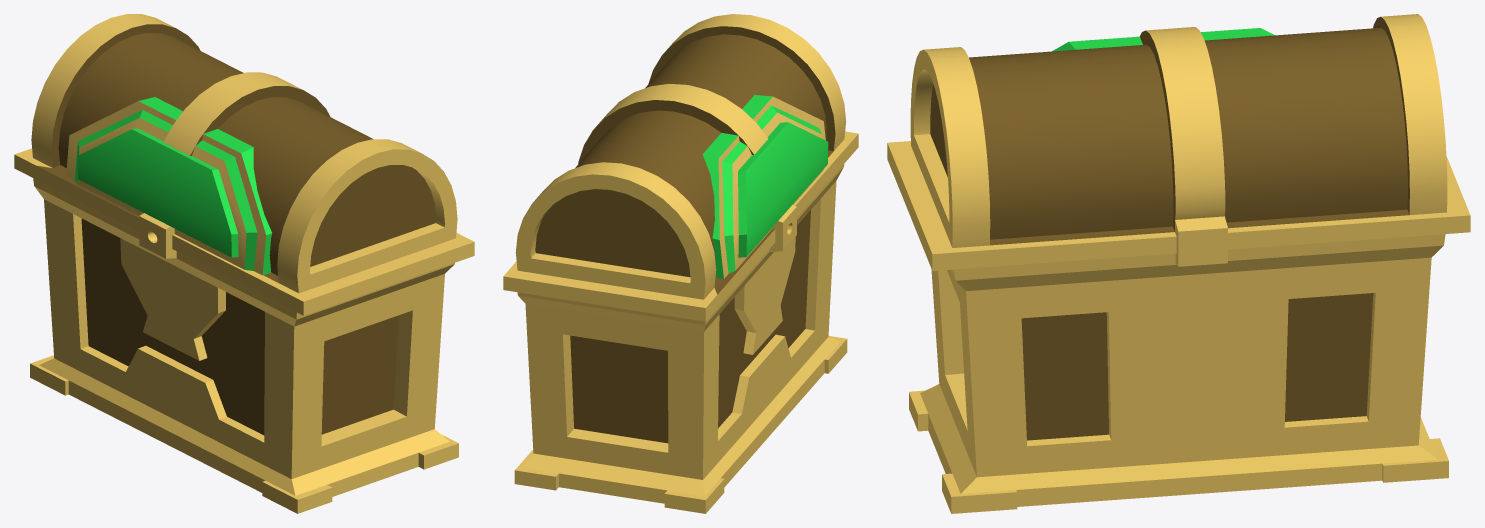
The model's file is Chest.fbx.
3 renders of one model, left to right at view 1: azimuth 30°, elevation 25°; view 2: azimuth 150°, elevation 25°; view 3: azimuth 270°, elevation 25°, orthographic. The views are drawn at different scales.
Visible parts, largest first — view 1: Cube.011, Cube.006; view 2: Cube.011, Cube.006; view 3: Cube.006, Cube.011.
Part boxes in pixels (box(x1,y1,x2,y2)): Cube.011: box(14, 14, 474, 315); Cube.006: box(30, 178, 458, 513); Cube.011: box(503, 14, 858, 321); Cube.006: box(514, 164, 847, 513); Cube.006: box(909, 234, 1448, 513); Cube.011: box(887, 14, 1470, 270).
Size of the model in its own units: 209 by 261 by 343.
